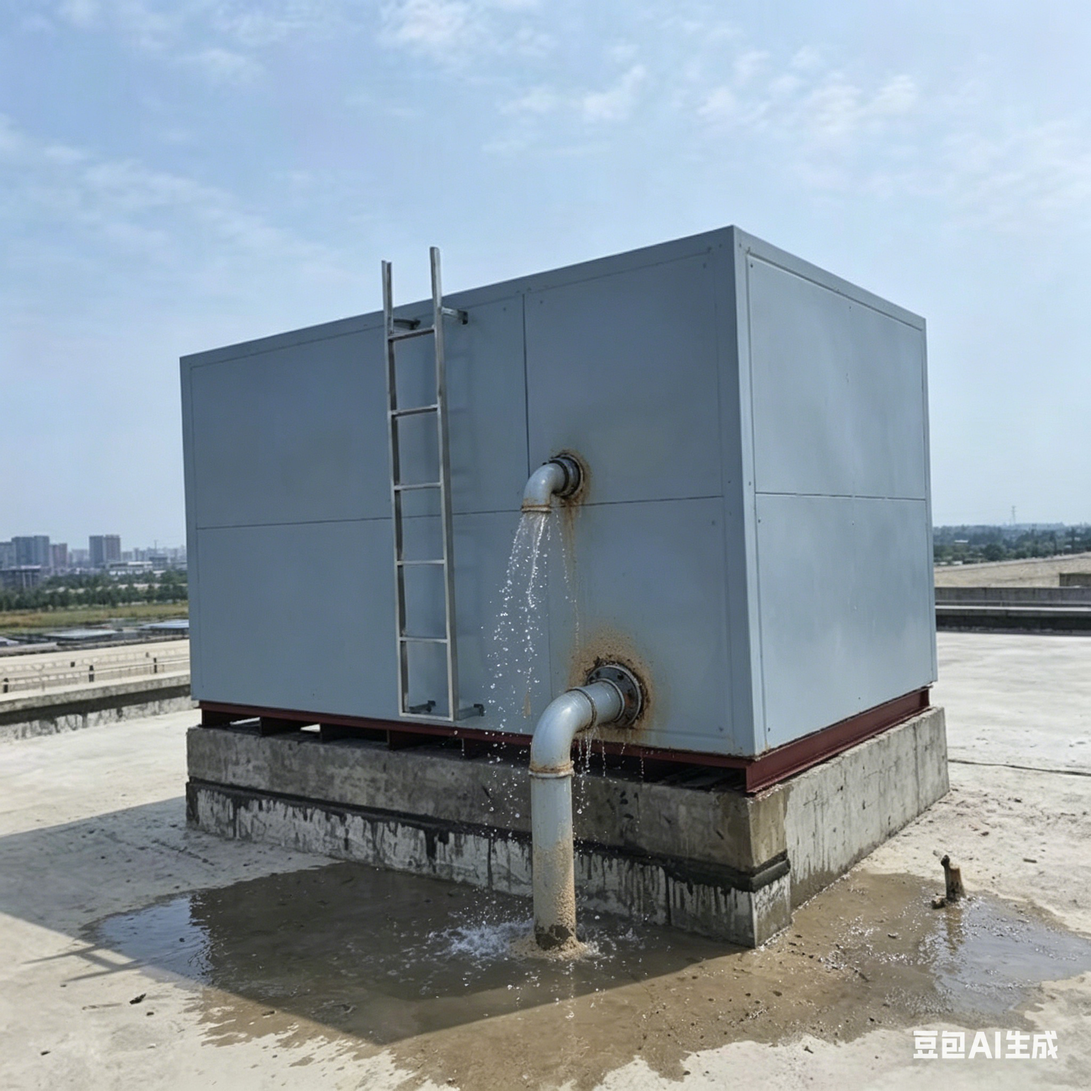Leakage: (592, 900, 1085, 1057), (132, 848, 469, 1047), (477, 495, 584, 1083)
